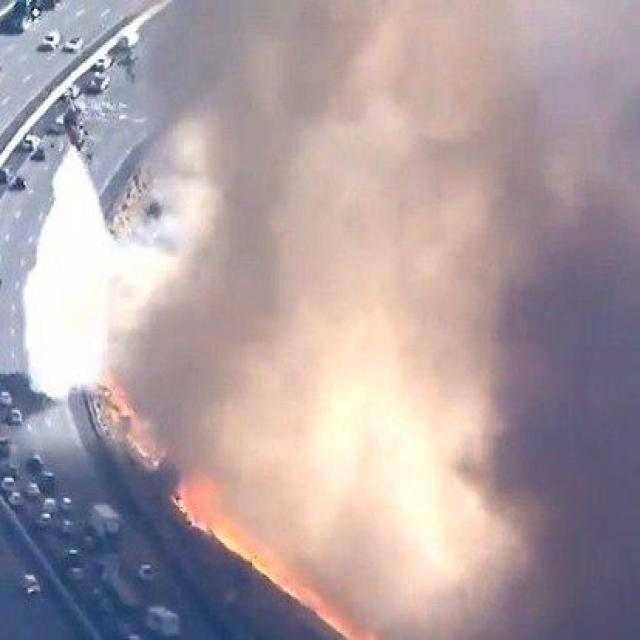Fire: (252, 523, 360, 640), (86, 362, 174, 479), (180, 489, 240, 552)
Smoke: (198, 39, 604, 235)
